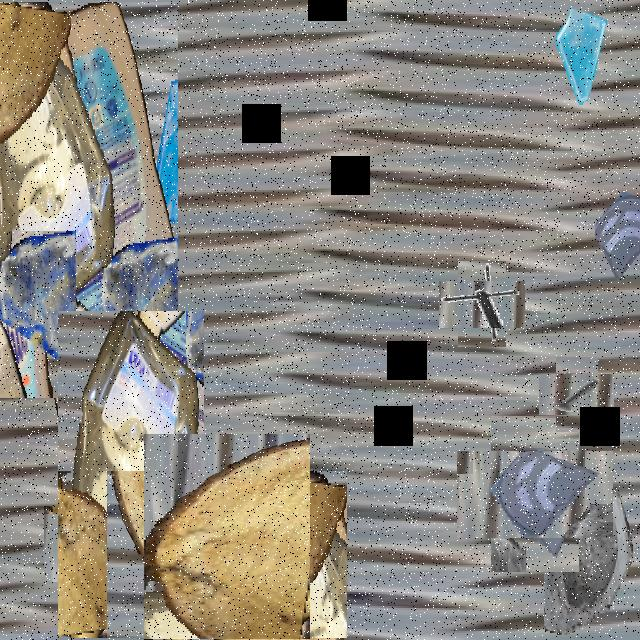glass: (474, 433, 596, 555), (544, 482, 632, 638), (0, 231, 76, 398), (554, 2, 612, 105), (595, 162, 640, 290), (0, 412, 29, 562)
metal: (97, 267, 159, 377), (448, 271, 516, 337), (548, 365, 606, 424)
plastic: (0, 2, 178, 634), (58, 311, 204, 638), (33, 117, 127, 345)
wood: (125, 452, 328, 640), (71, 478, 203, 610)
